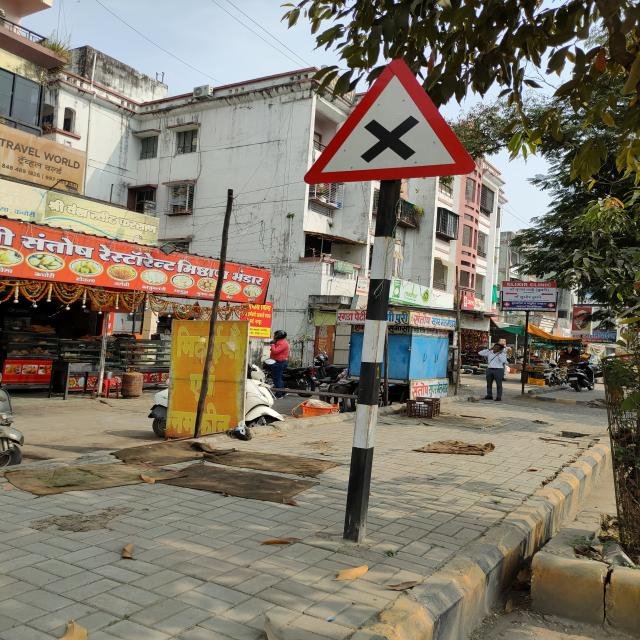cross_road: (296, 54, 480, 184)
